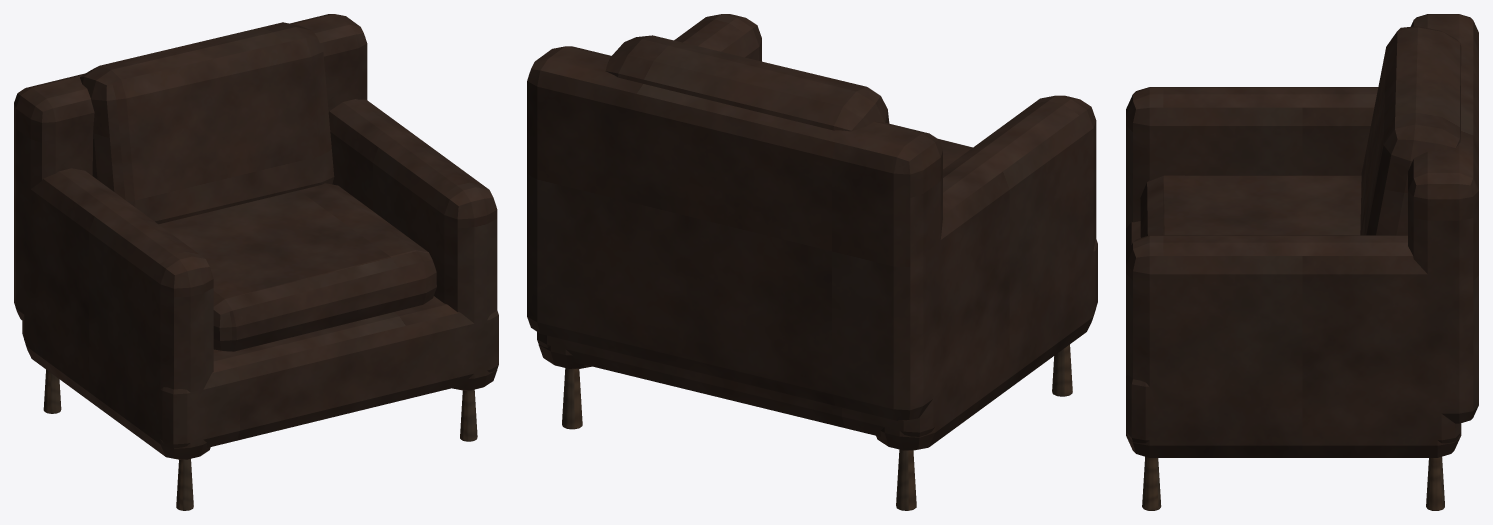
The model's file is L02_armchair_v2.glb.
3 renders of one model, left to right at view 1: azimuth 30°, elevation 25°; view 2: azimuth 150°, elevation 25°; view 3: azimuth 270°, elevation 25°, orthographic. The views are drawn at different scales.
Visible parts, largest first — view 1: L02_armchair_v2; view 2: L02_armchair_v2; view 3: L02_armchair_v2.
Boxes of the visible parts, x1,y1,x2,y2 form: L02_armchair_v2: [14, 14, 498, 510]; L02_armchair_v2: [527, 14, 1097, 510]; L02_armchair_v2: [1126, 14, 1478, 510].
Bounding box in the file's own units: 0.9 × 0.8593 × 0.7671.
Materials: 2 (2 with a texture image).
